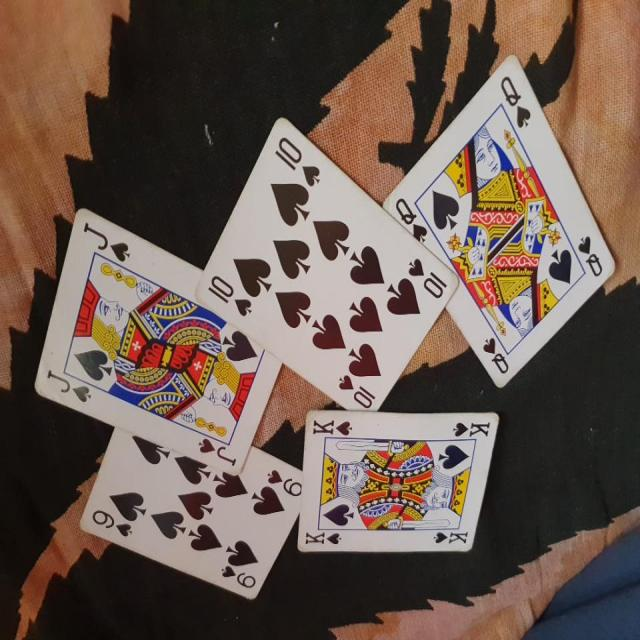10 Spades: (188, 108, 462, 426)
9 Spades: (76, 406, 309, 601)
J Spades: (25, 205, 288, 482)
K Spades: (296, 406, 505, 564)
Q Spades: (376, 43, 616, 390)
